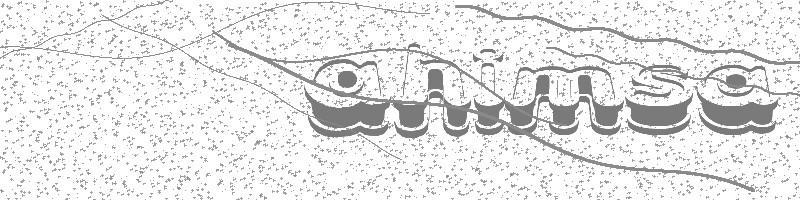a: (300, 55, 393, 136), (696, 61, 779, 137)
h: (393, 40, 472, 137)
i: (471, 43, 509, 138)
m: (509, 59, 625, 136)
s: (625, 56, 697, 135)
